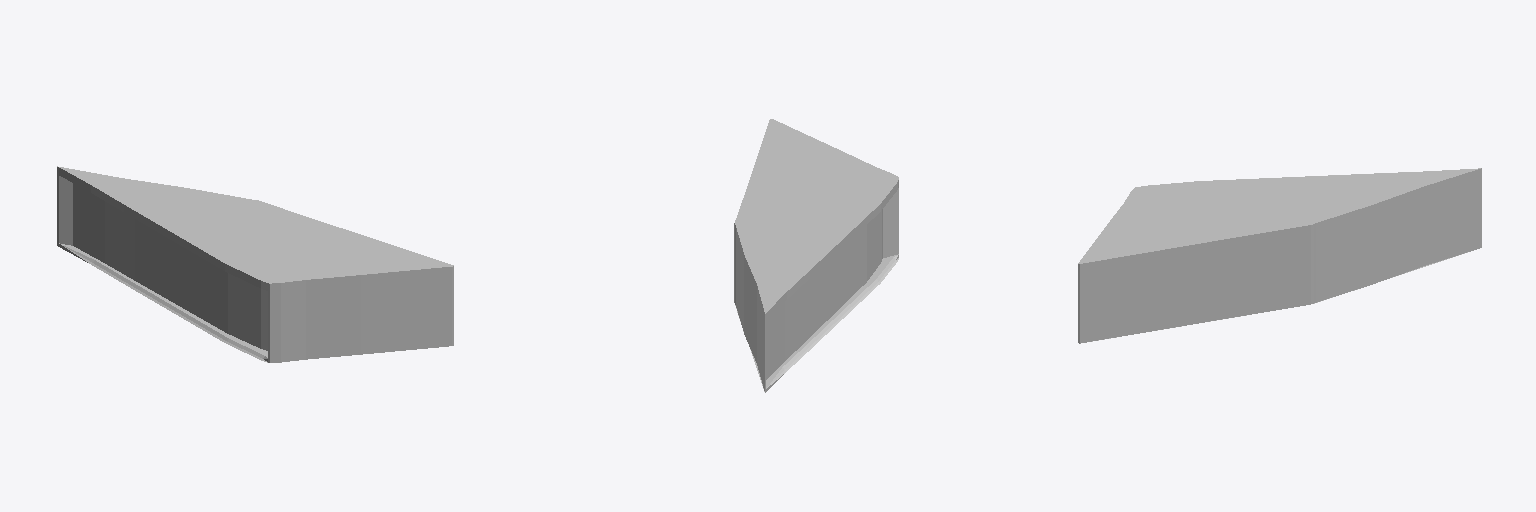
The model's file is Under-Ramp Plastic.obj.
3 renders of one model, left to right at view 1: azimuth 30°, elevation 25°; view 2: azimuth 150°, elevation 25°; view 3: azimuth 270°, elevation 25°, orthographic.
Parts seen in each view (by area): view 1: Cylinder; view 2: Cylinder; view 3: Cylinder.
Boxes of the visible parts, x1,y1,x2,y2 form: Cylinder: [57, 166, 453, 362]; Cylinder: [734, 119, 898, 392]; Cylinder: [1078, 168, 1481, 343].
Size of the model in its own units: 3.86 by 1.5 by 6.89.